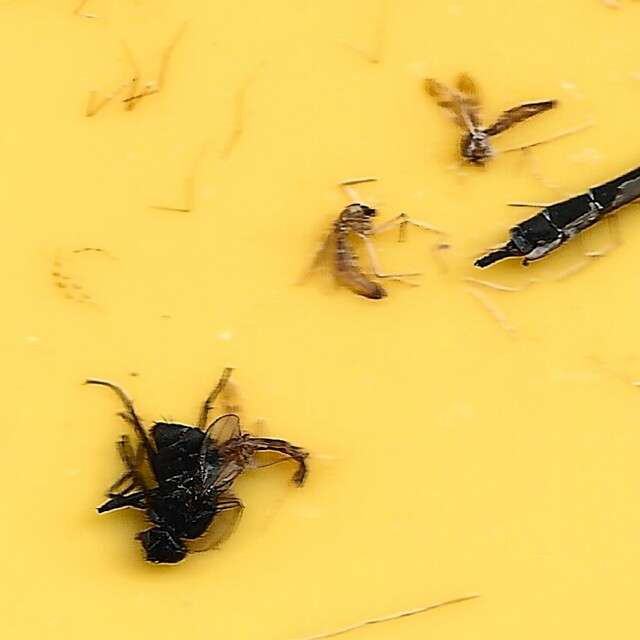Brachycera: (83, 367, 310, 571)
Nematocera: (294, 198, 420, 307), (422, 69, 557, 170)
